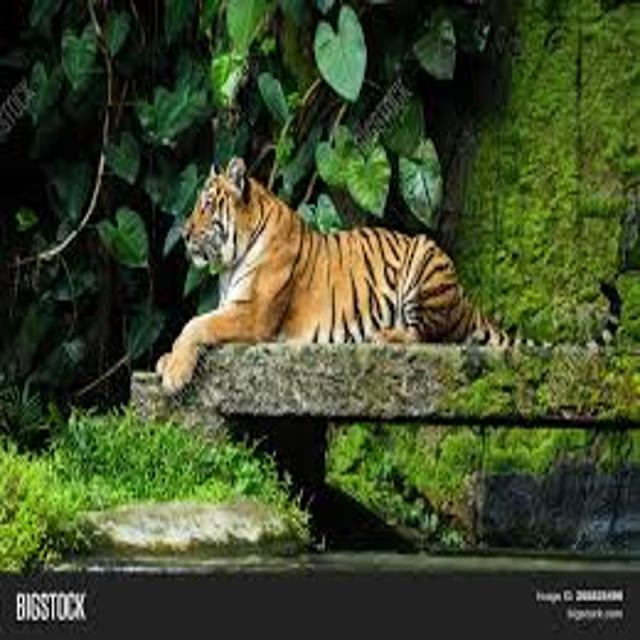tiger: (126, 121, 633, 429)
